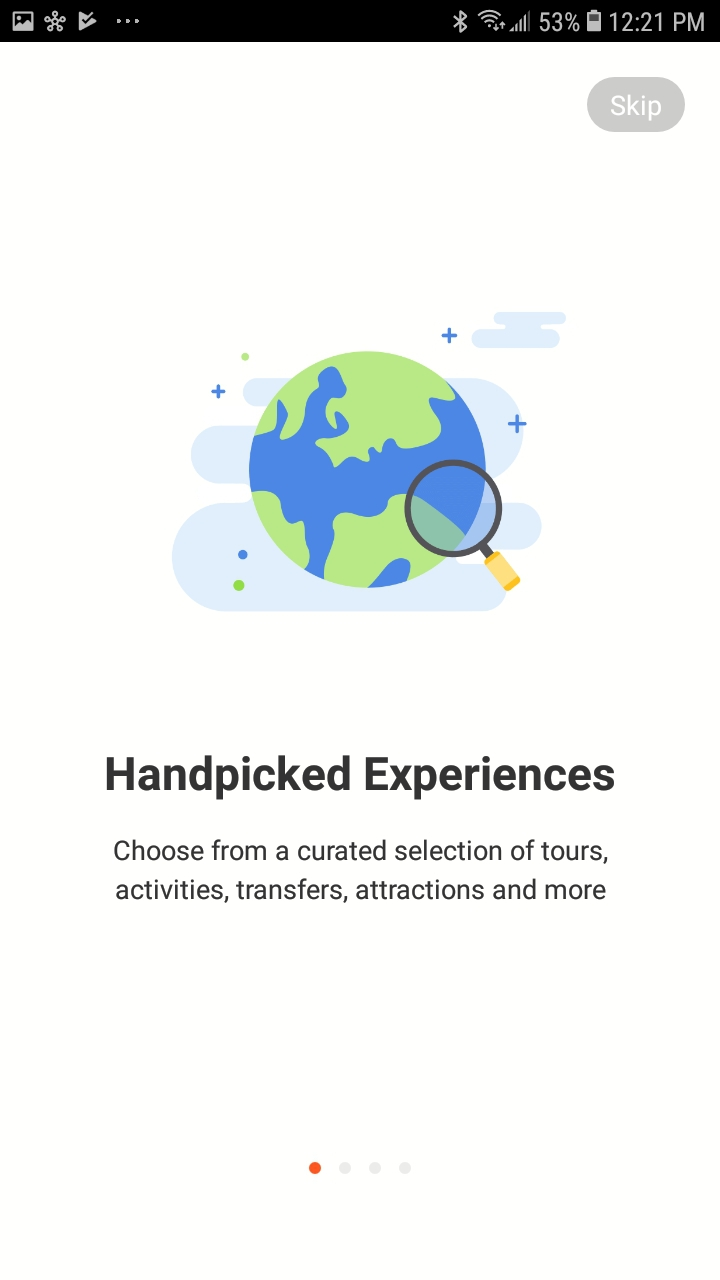Image: (172, 311, 567, 612)
PageIndicator: (309, 1161, 413, 1175)
Text: (114, 838, 609, 904), (106, 754, 615, 801)
TextButton: (587, 77, 686, 133)
UpperTaskBar: (1, 1, 720, 43)
